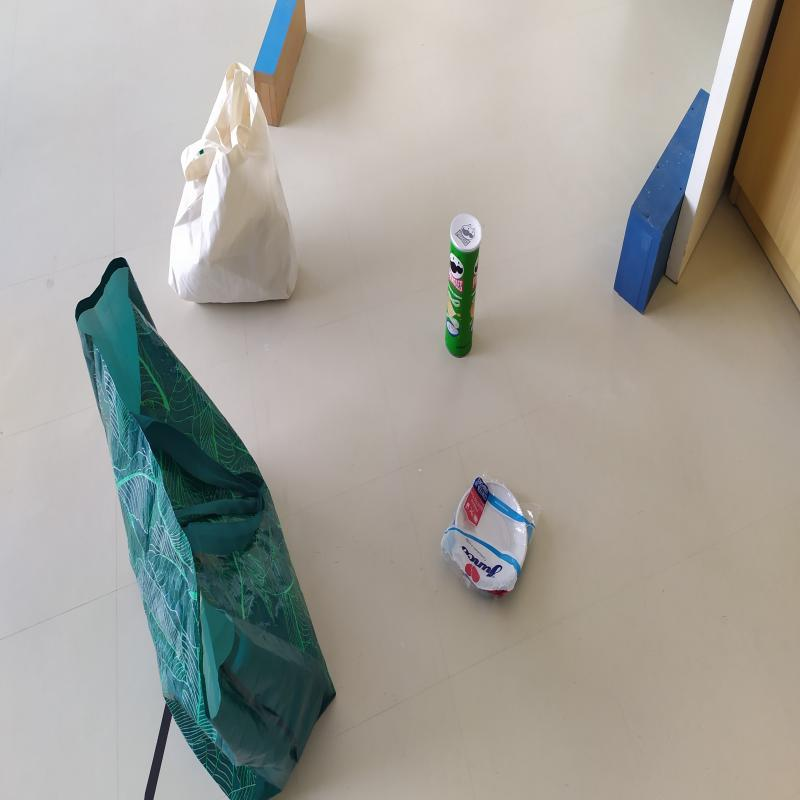Bag: (76, 263, 338, 800), (168, 62, 300, 312)
Plate: (447, 474, 528, 596)
Pringles: (445, 210, 482, 359)
